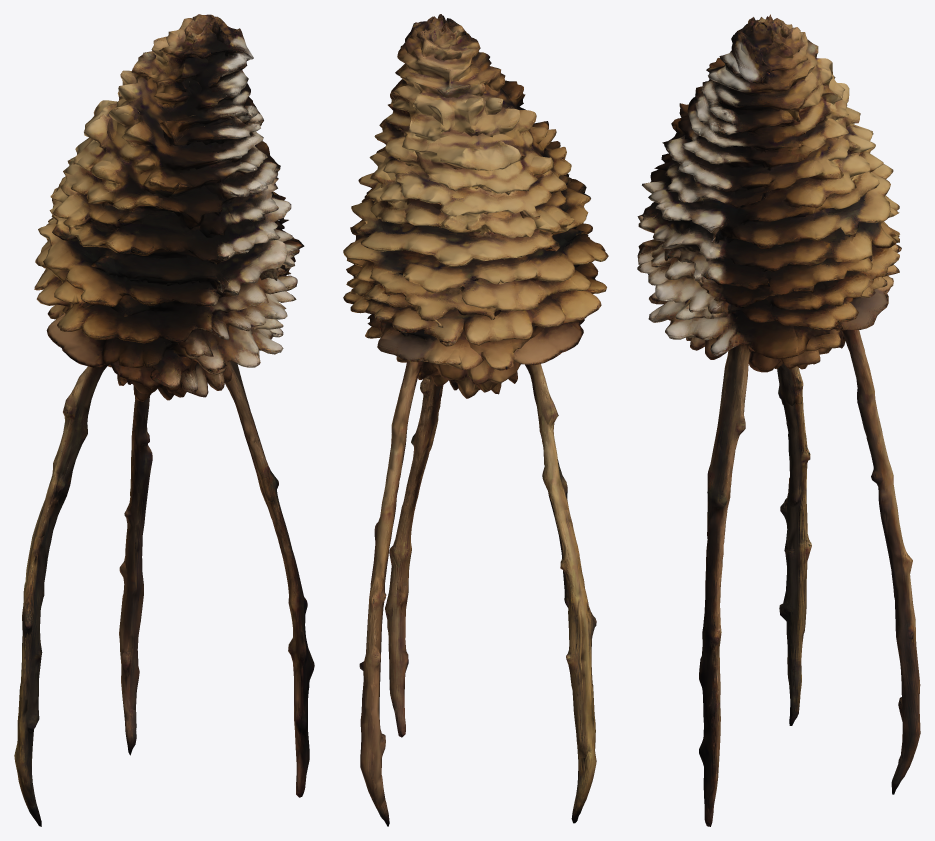
Rendered from sculpt3.glb.
The picture shows the model from 3 angles, left to right: view 1: azimuth 30°, elevation 25°; view 2: azimuth 150°, elevation 25°; view 3: azimuth 270°, elevation 25°; orthographic projection. The views are drawn at different scales.
Visible parts, largest first — view 1: mesh; view 2: mesh; view 3: mesh.
Part boxes in pixels (x1,y1,x2,y2): mesh: (14,14,314,826); mesh: (343,14,608,826); mesh: (637,14,920,826).
Size of the model in its own units: 0.3414 by 0.9935 by 0.3259.
1 material, 1 textured.
